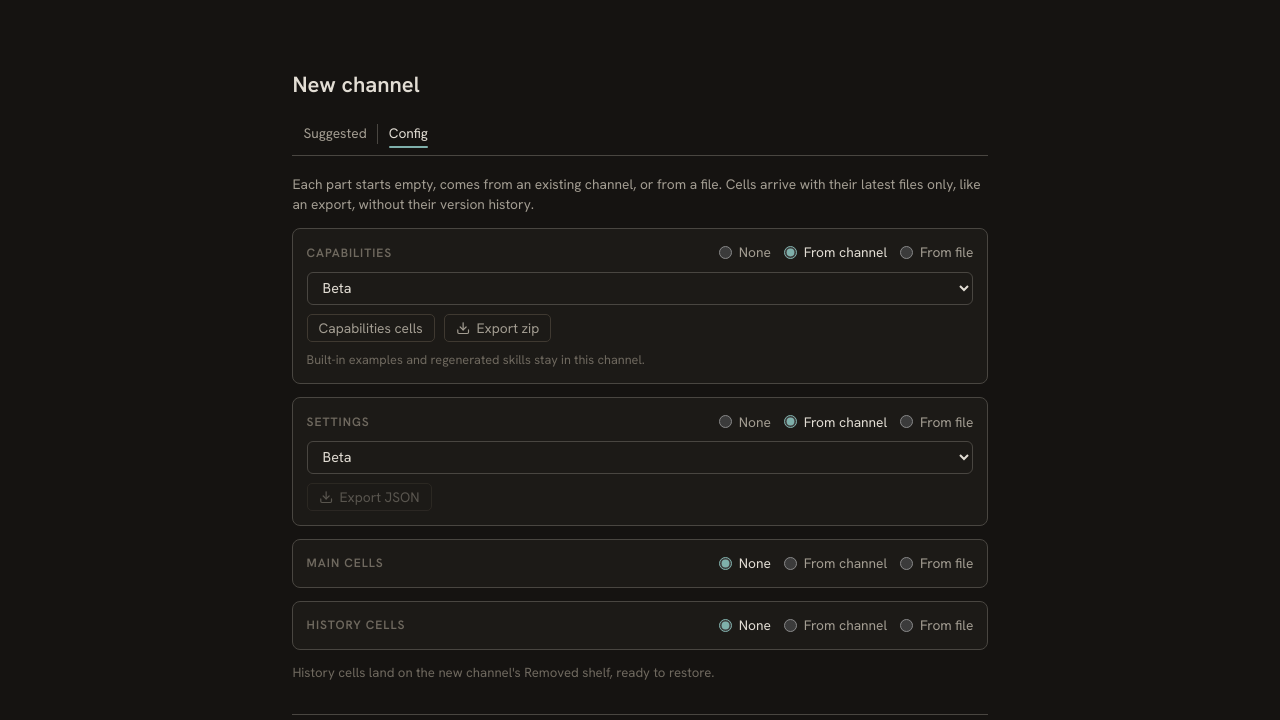
Scenario: New channel: Config › waits for an upload before Create
Click the radio button labelled "From file" in the row of "Main cells". click: (907, 563)
box: [900,557,913,570]
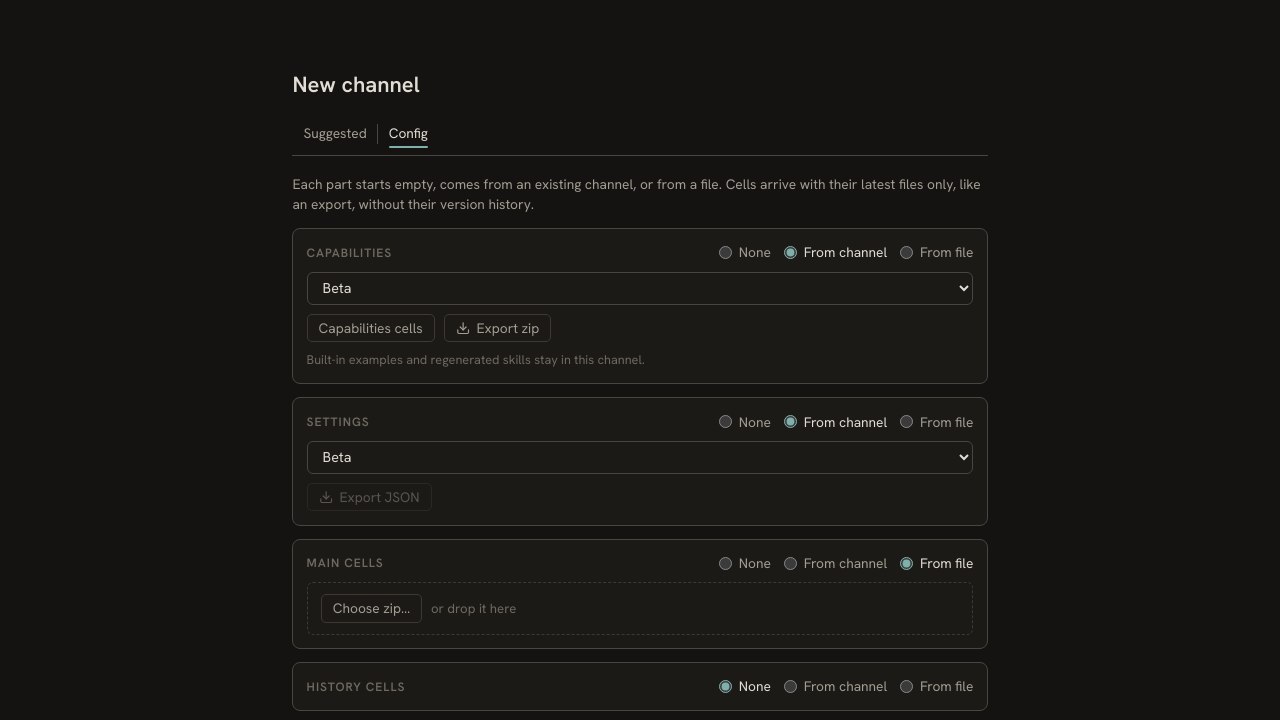
Click the button "Choose zip…". click: (372, 609)
box: [321,594,422,623]
(page scrolled)
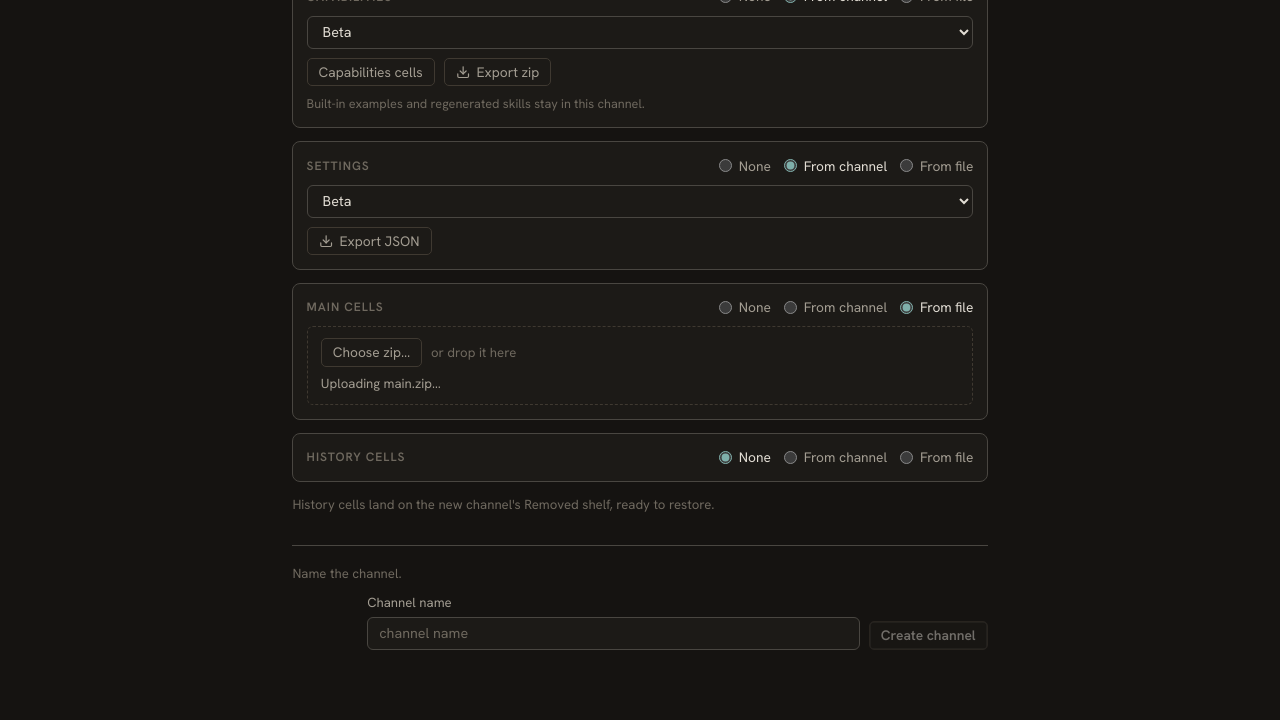
Expected: the text "Uploading main.zip…" is shown, [321,374,441,392]
Type "New one" into the field labelled "Channel name". click: (614, 633)
box: [367,617,860,650]
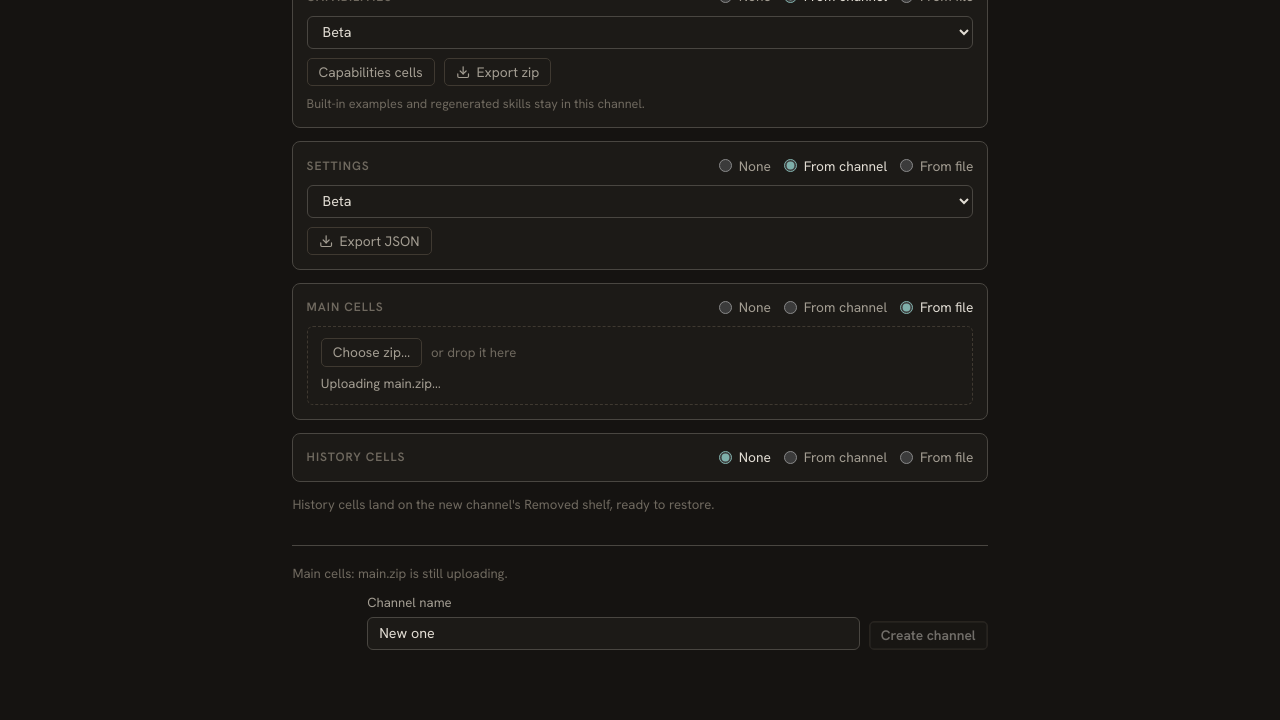
Expected: the button "Create channel" is disabled, [869,621,988,650]
Expected: the text "Main cells: main.zip is still uploading." is shown, [292,565,508,582]
